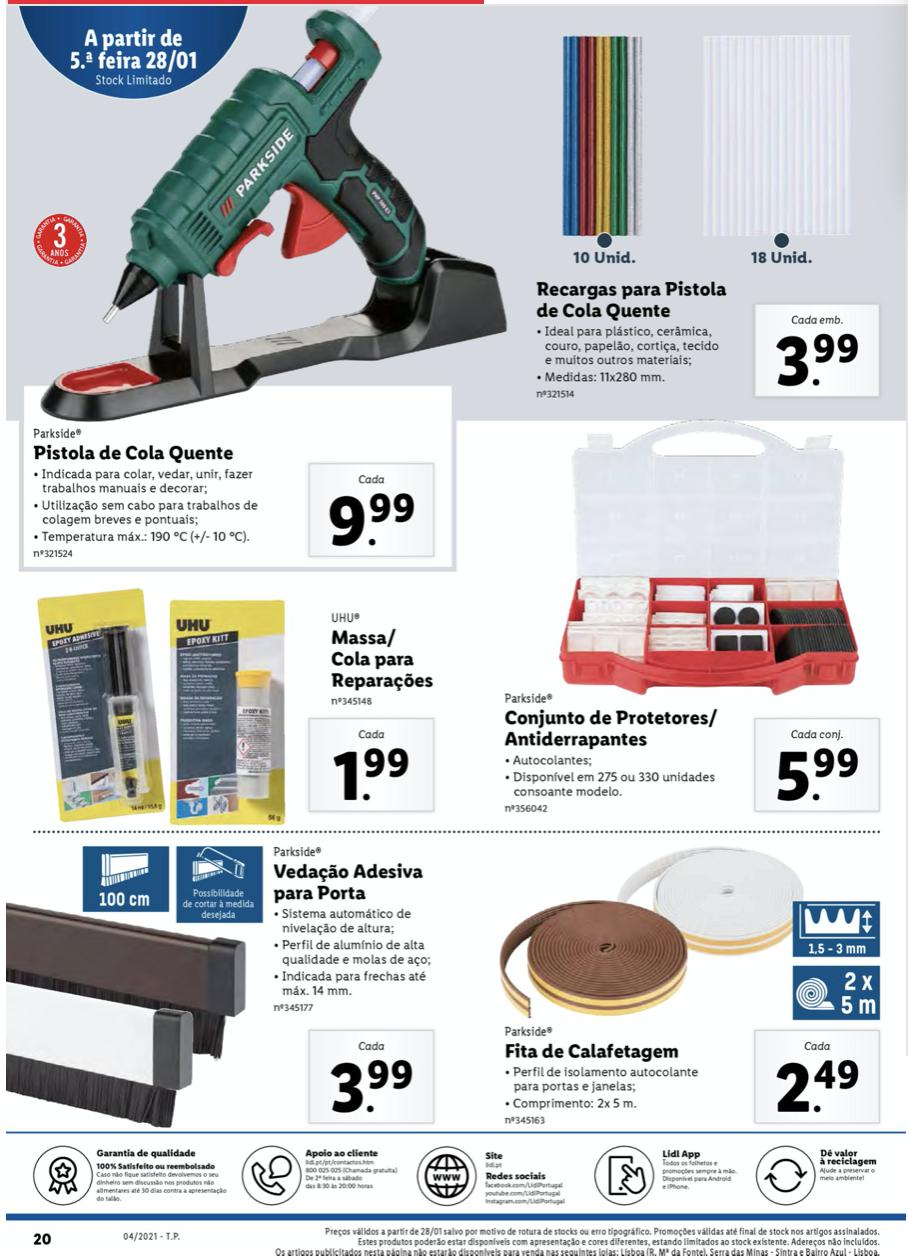name: (500, 703, 724, 756), (530, 278, 730, 325), (327, 626, 439, 694), (271, 859, 430, 903), (27, 439, 238, 467), (497, 1040, 683, 1067)
price: (322, 1055, 418, 1120), (325, 487, 419, 550), (771, 745, 863, 808), (774, 1058, 863, 1119), (774, 330, 863, 389), (330, 744, 411, 806)
product: (14, 14, 500, 570), (493, 408, 889, 820), (518, 17, 894, 419), (1, 845, 469, 1128), (477, 837, 885, 1131), (19, 589, 458, 828)
